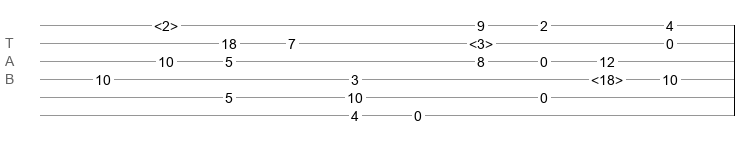0: (414, 108, 422, 118), (540, 54, 548, 64), (540, 90, 548, 100), (666, 36, 674, 46)
10: (95, 72, 111, 82), (158, 54, 174, 64), (347, 90, 363, 100), (662, 72, 678, 82)
12: (599, 54, 615, 64)
18: (221, 36, 237, 46)
2: (540, 18, 548, 28)
3: (351, 72, 359, 82)
4: (351, 108, 359, 118), (666, 18, 674, 28)
5: (225, 54, 233, 64), (225, 90, 233, 100)
7: (288, 36, 296, 46)
8: (477, 54, 485, 64)
9: (477, 18, 485, 28)
harmonic: (591, 72, 623, 82), (154, 18, 178, 28), (469, 36, 493, 46)
